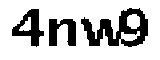4: (9, 8, 43, 53)
9: (120, 7, 153, 50)
n: (45, 15, 80, 55)
w: (80, 14, 122, 50)
